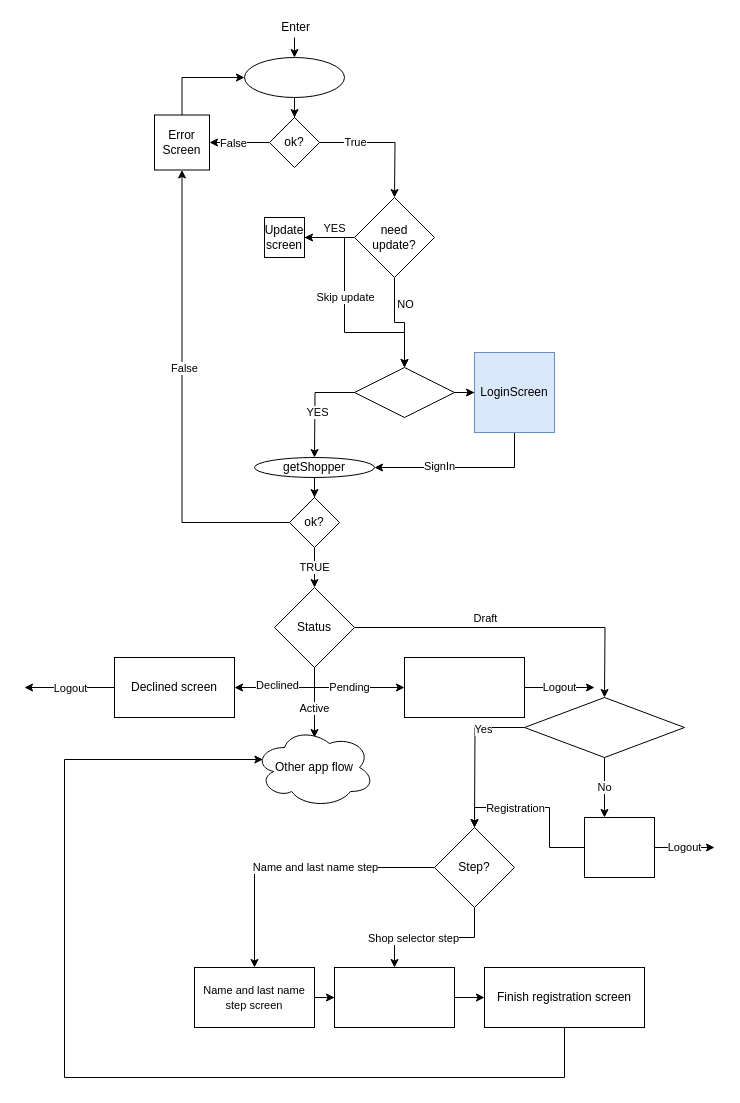
Some shapes in this 740 by 1103 pixel diagram are drawn without their labels. The shapes that lost their labels are listed below. From the top down, each one's centre as x and y in pixels, then its label:
At (294,77): "Get APP version request".
At (404,392): "isLoggedIn?".
At (464,687): "PendingScreen".
At (604,727): "From Registration?".
At (619,847): "Show alert about registration not finished".
At (394,997): "Shop selector screen".
